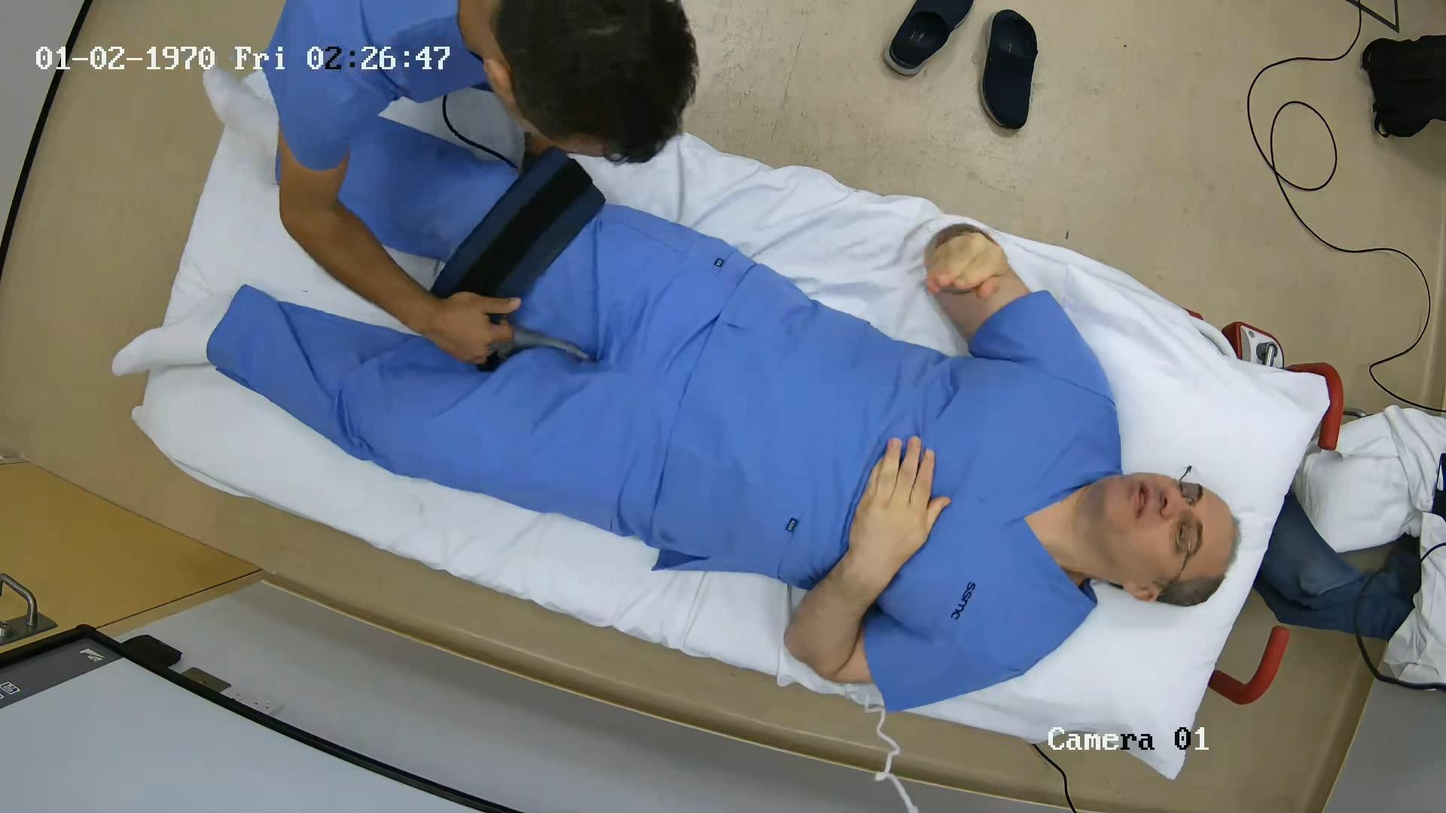patient: (207, 120, 1121, 709)
tourniquet: (429, 151, 605, 298)
